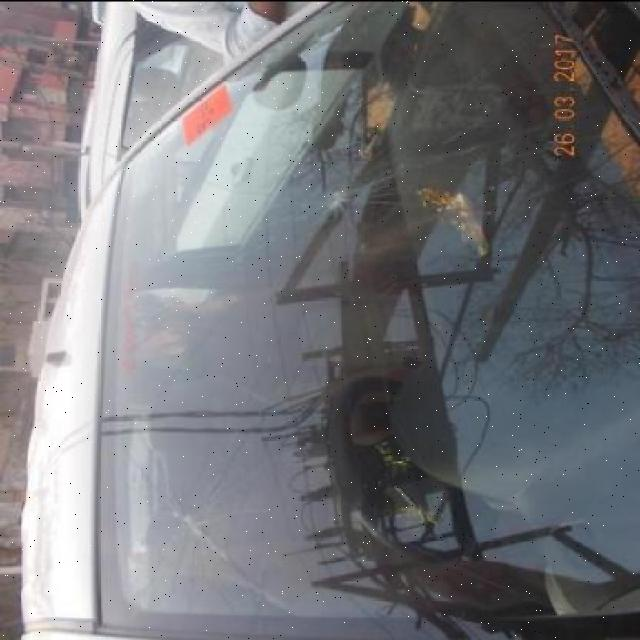damage: (159, 481, 225, 551), (307, 174, 359, 224)
